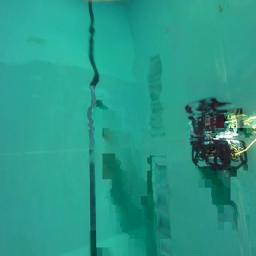back: (189, 139, 247, 170)
